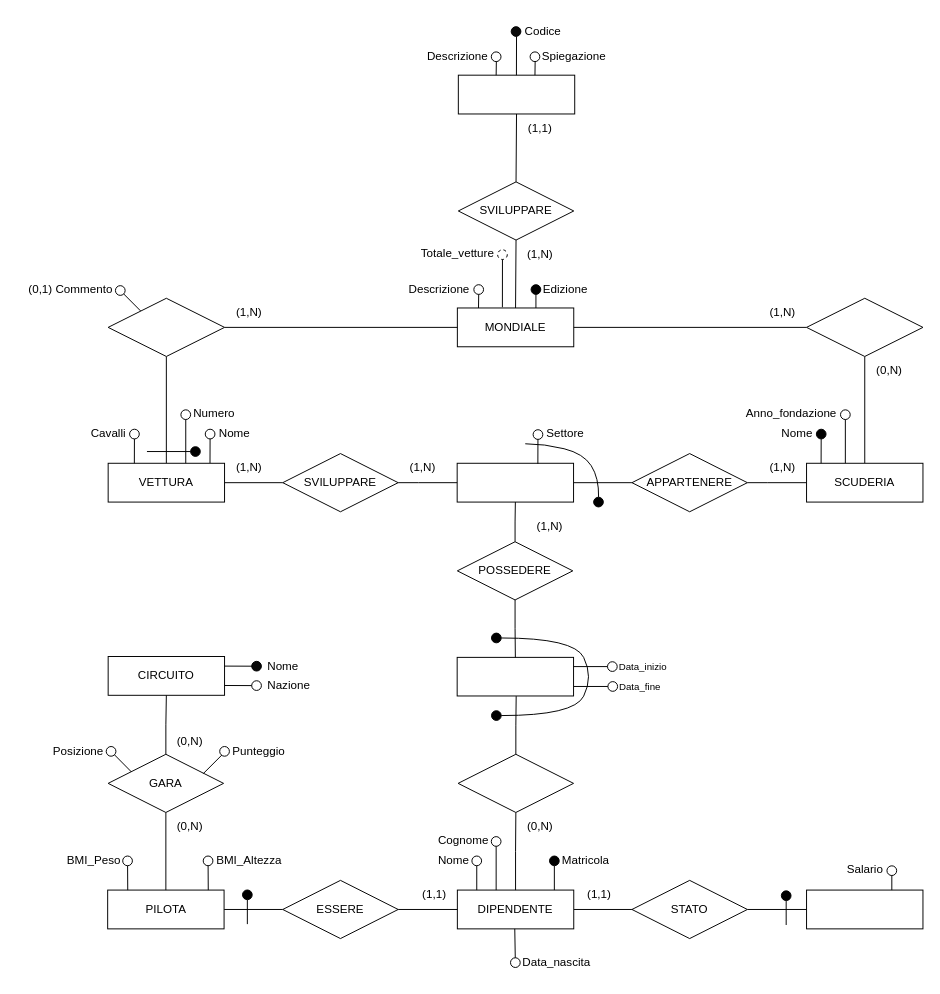
This 940x994 diagram has some shape labels left out. Here are the shapes that lost their labels. From the top down, the centre of each, then its label:
(516,94): REGOLAMENTO
(166,326): COMPETERE
(864,326): PARTECIPAZIONE
(515,482): TEAM
(515,676): LAVORO
(515,782): INCARICO
(864,909): TEAM PRINCIPAL
